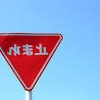Regulatory_sign_triangle: (1, 28, 70, 92)
